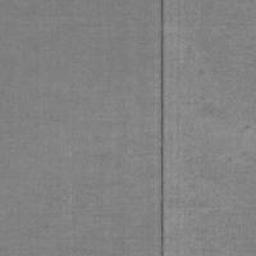Welding line: (159, 0, 165, 256)
